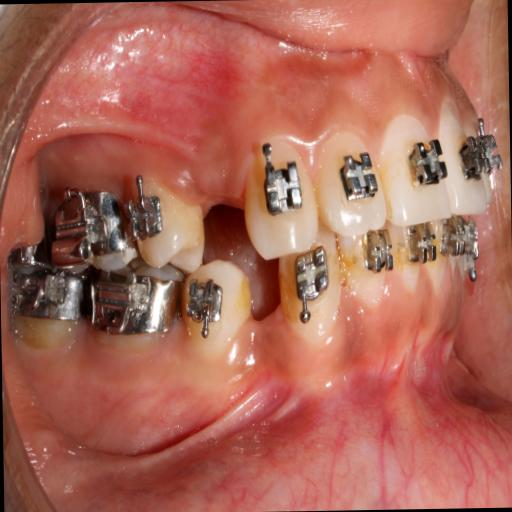correct_brace: (122, 176, 210, 272), (261, 157, 307, 222), (342, 146, 380, 206), (406, 138, 446, 190)
incorrect_brace: (314, 128, 385, 236), (122, 185, 168, 245)
